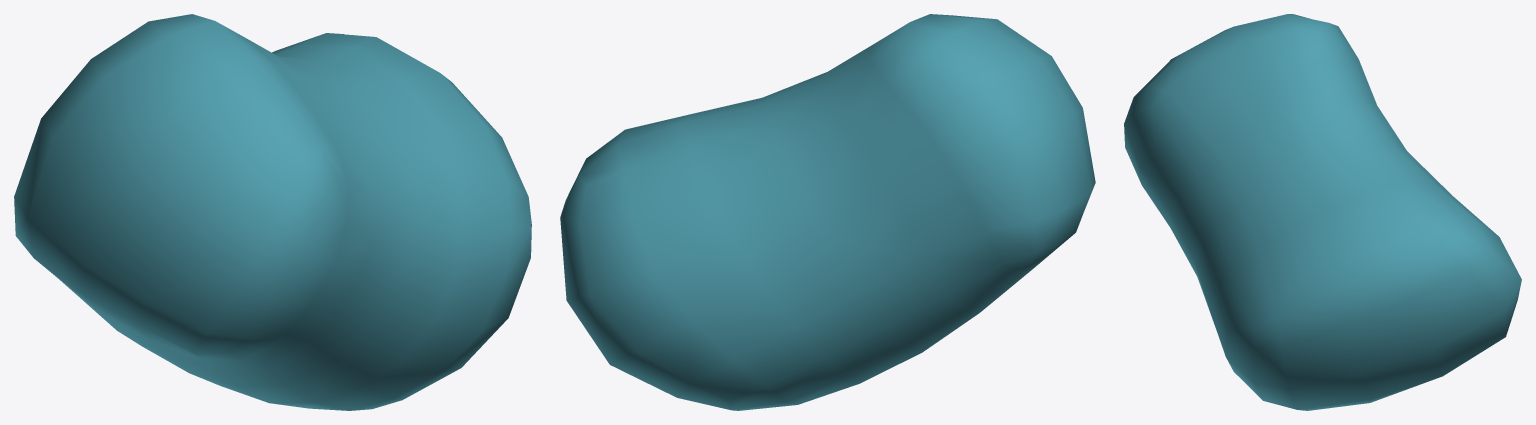
Rendered from VIS_Alpha_Surface_035.dae.
3 renders of one model, left to right at view 1: azimuth 30°, elevation 25°; view 2: azimuth 150°, elevation 25°; view 3: azimuth 270°, elevation 25°, orthographic. The views are drawn at different scales.
Parts seen in each view (by area): view 1: VIS_Alpha_Surface_035; view 2: VIS_Alpha_Surface_035; view 3: VIS_Alpha_Surface_035.
Part boxes in pixels (<box>): VIS_Alpha_Surface_035: <box>14,14,531,410</box>; VIS_Alpha_Surface_035: <box>560,14,1095,410</box>; VIS_Alpha_Surface_035: <box>1124,14,1521,410</box>.
Bounding box in the file's own units: 0.0426 × 0.0396 × 0.0348.
